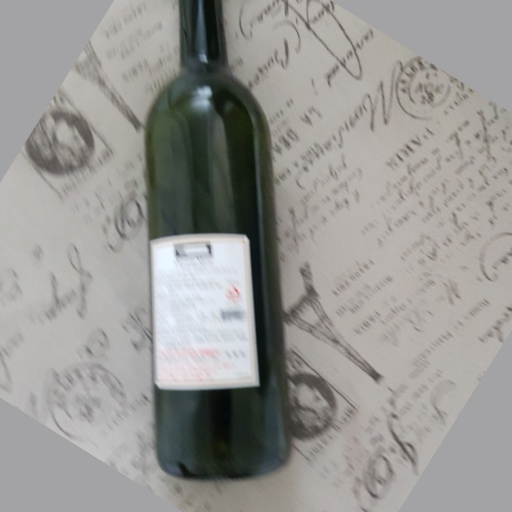Glass_2: (142, 2, 294, 482)
